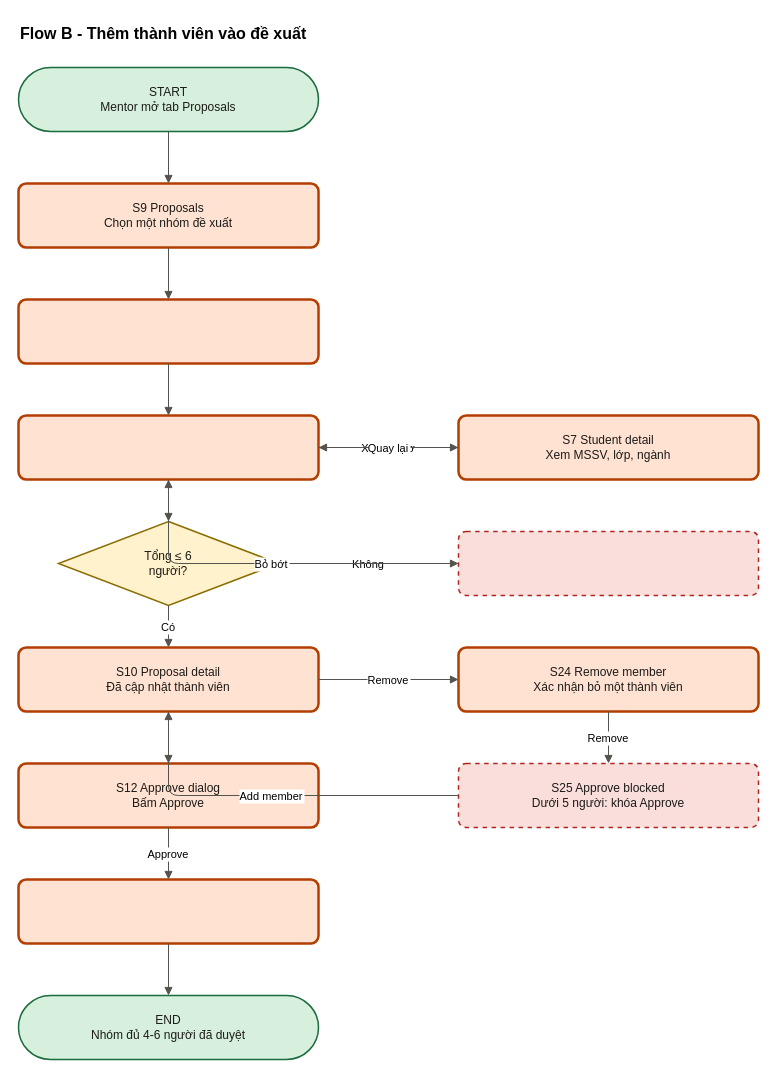
The diagram is 777 pixels wide and 1077 high, and some of its shapes have lost their labels. The shapes that lost their labels are listed below. From the top down, each one's centre as x and y in pixels, then its label:
At pixel 168 331: "S10 Proposal detail Bấm Add member".
At pixel 168 447: "S11 Add member Tick SV muốn thêm".
At pixel 608 563: "S13 Add member lỗi 'Max 6 members', khóa nút Add".
At pixel 168 911: "S14 Proposals Snackbar 'Approved'".
